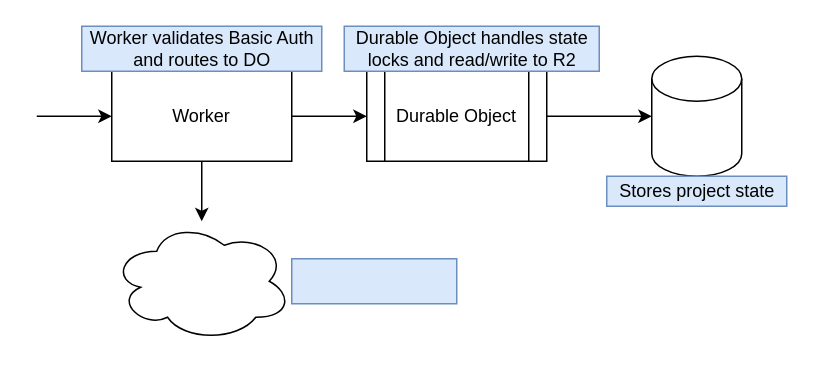
Image size: 813x368. Some labels were removed from this diagram. The centre of each missing label's shape, as x and y in pixels:
KV: pixel 201 280
R2: pixel 696 115
Stores Basic Auth credentials: pixel 373 280
